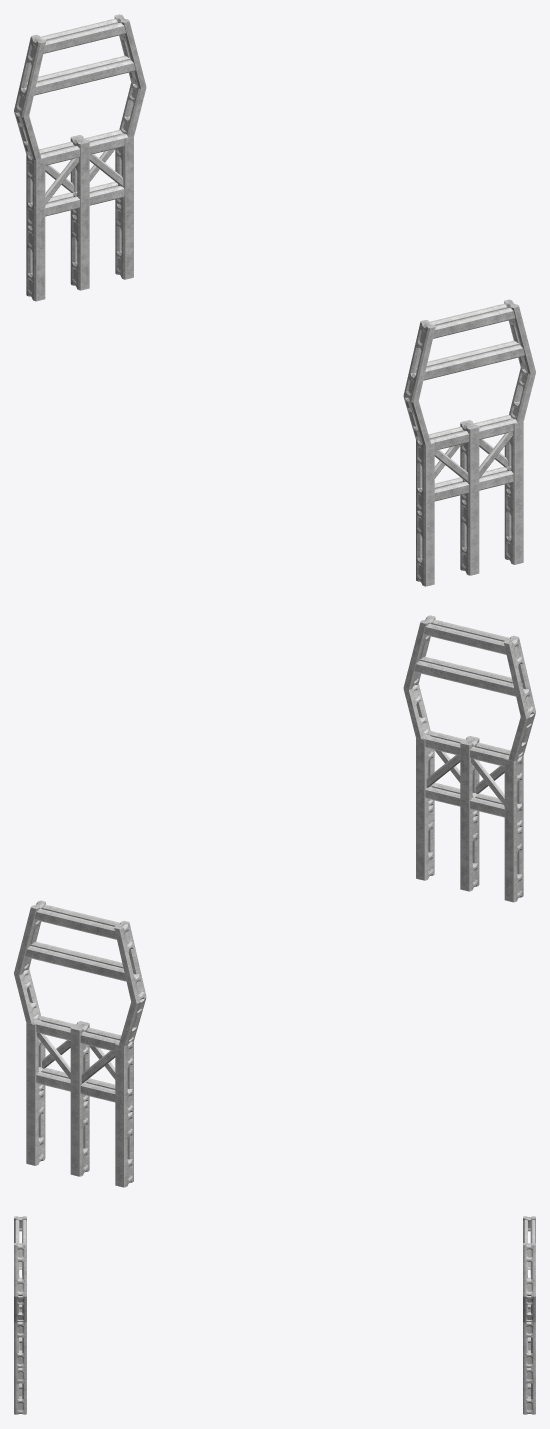
File: Bridge_2.obj
3 renders of one model, top to bottom at view 1: azimuth 30°, elevation 25°; view 2: azimuth 150°, elevation 25°; view 3: azimuth 270°, elevation 25°, orthographic. The views are drawn at different scales.
Visible parts, largest first — view 1: polySurface53; view 2: polySurface53; view 3: polySurface53.
Boxes of the visible parts, left/top/right/bottom form: polySurface53: left=14, top=14, right=535, bottom=586; polySurface53: left=14, top=615, right=535, bottom=1187; polySurface53: left=14, top=1216, right=535, bottom=1414.
Size of the model in its own units: 5.21 by 10.26 by 28.88.
1 material, 1 textured.
